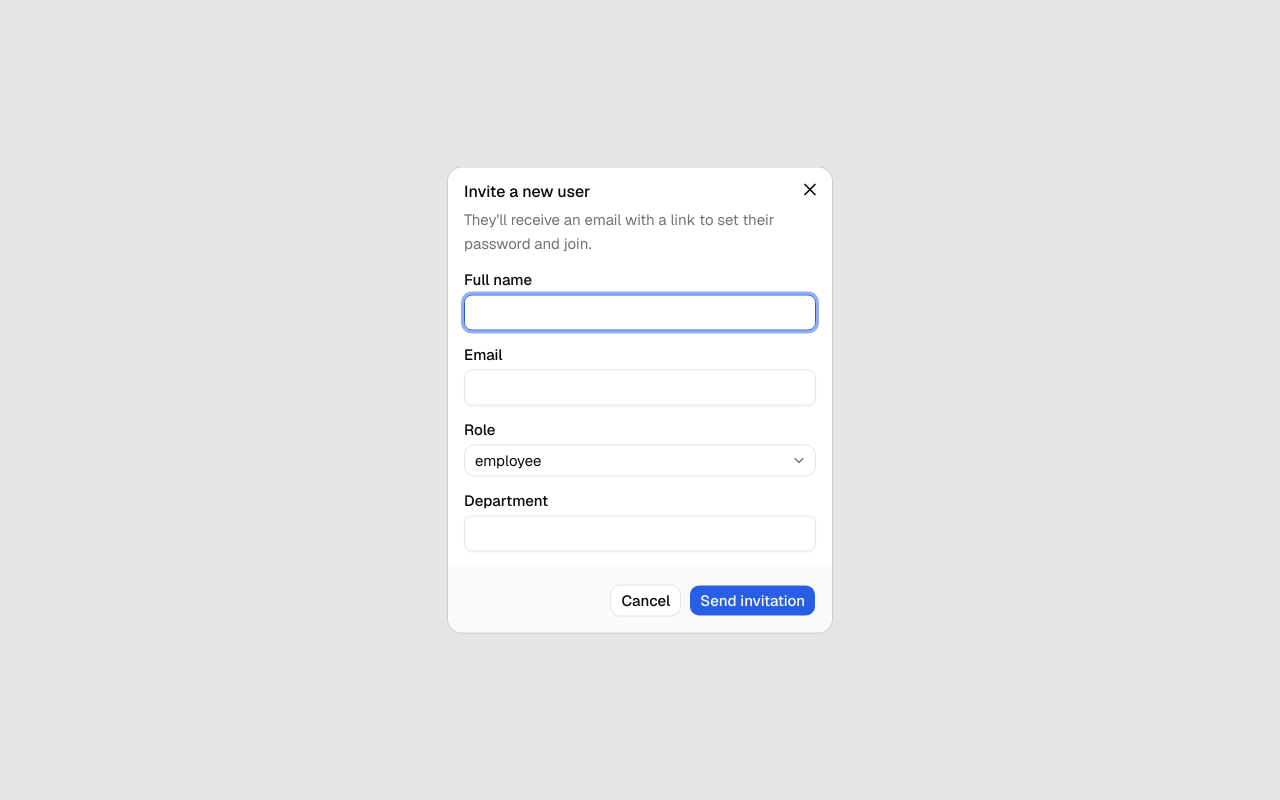
CreateInvitationDialog › rejects submission with empty required fields
Click the button "Send invitation".
click(753, 600)  # box [689,584,816,616]
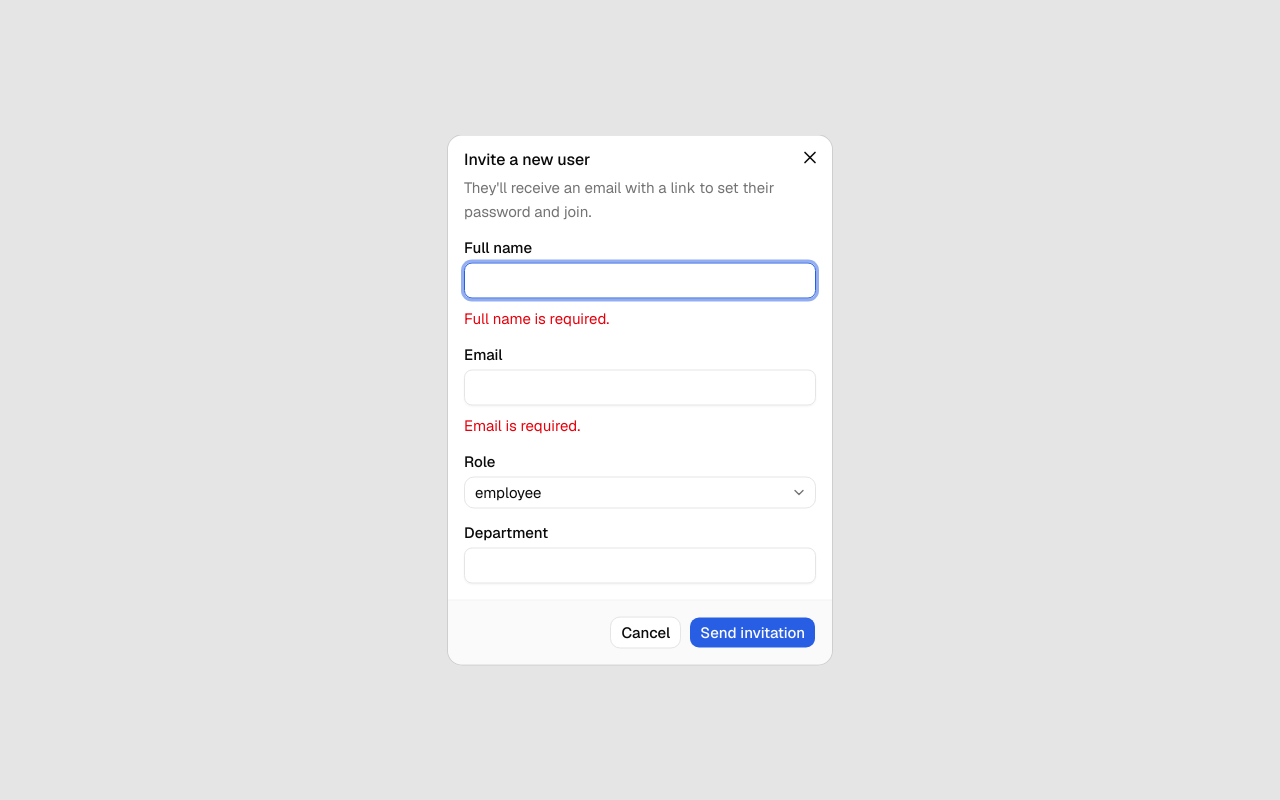
Check: the text "Full name is required." is shown, box [464,308,609,328]
Check: the text "Email is required." is shown, box [464,416,580,434]
